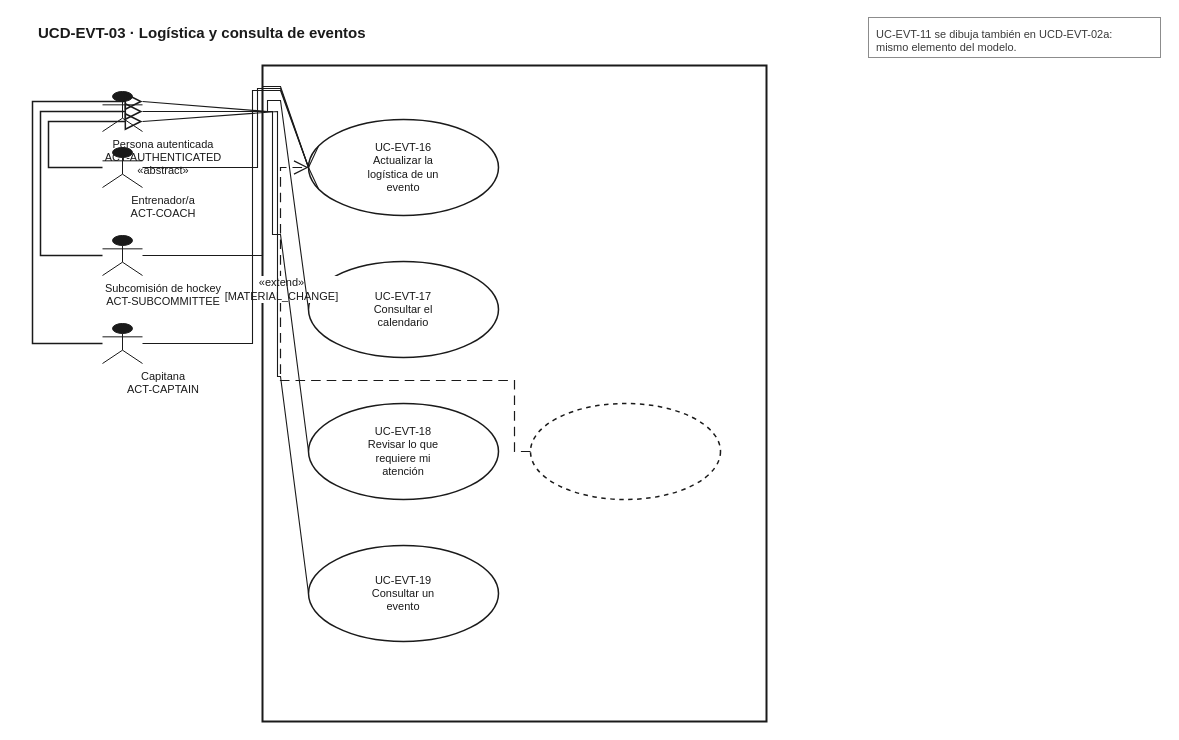
This 1179x740 diagram has some shape labels left out. The box of each missing label's shape, as (x1, y1, x2, y2) in pixels:
GEI Hockey Management System — GEI · EVT — Logística y consulta de eventos: (261, 64, 767, 722)
UC-EVT-11 Revisar el impacto de un cambio material: (529, 402, 721, 500)
